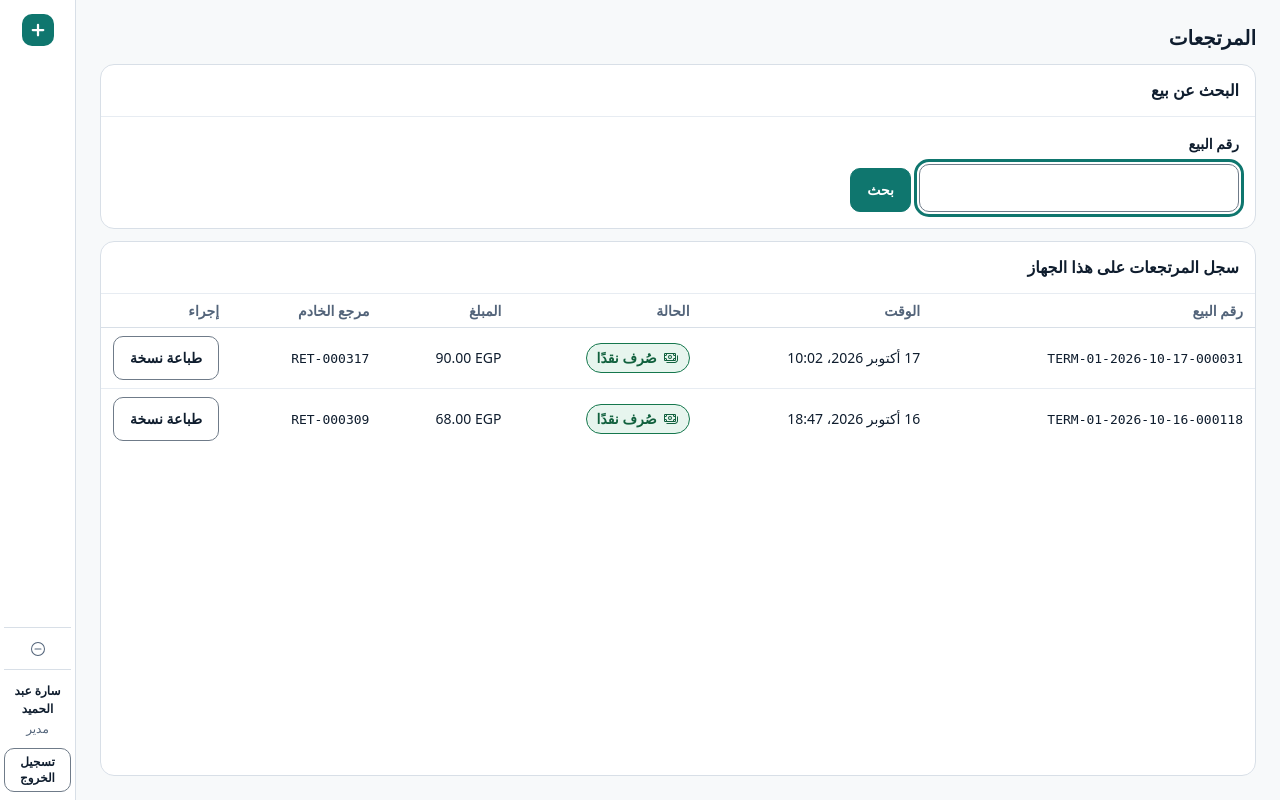
Test: ReturnsProof › PayoutInterrupted: the started payout is completed, never started afresh
Type "TERM-01-2026-10-15-000042" into the field labelled "رقم البيع" at (1079,188), box [919,164,1239,212]
Then press Enter
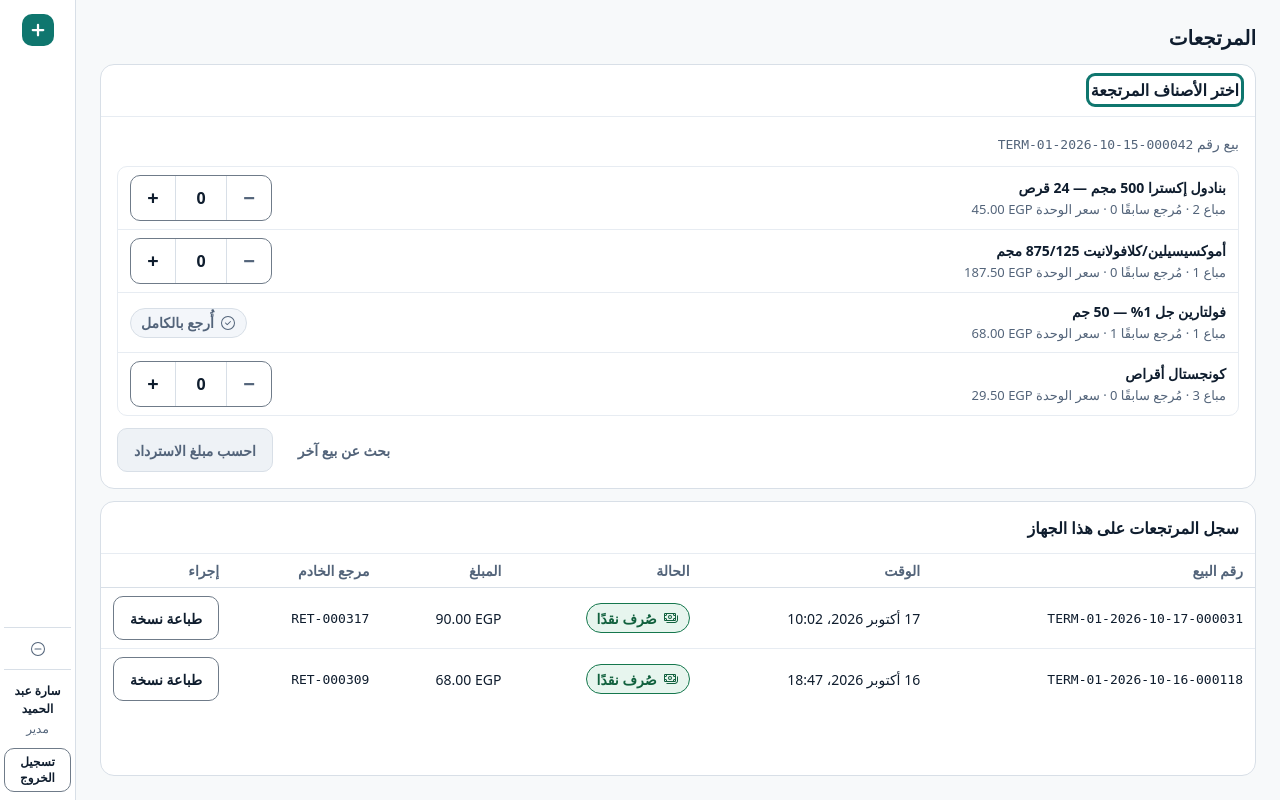
Click the button named "زيادة بنادول" at (153,198), box [131,176,175,220]
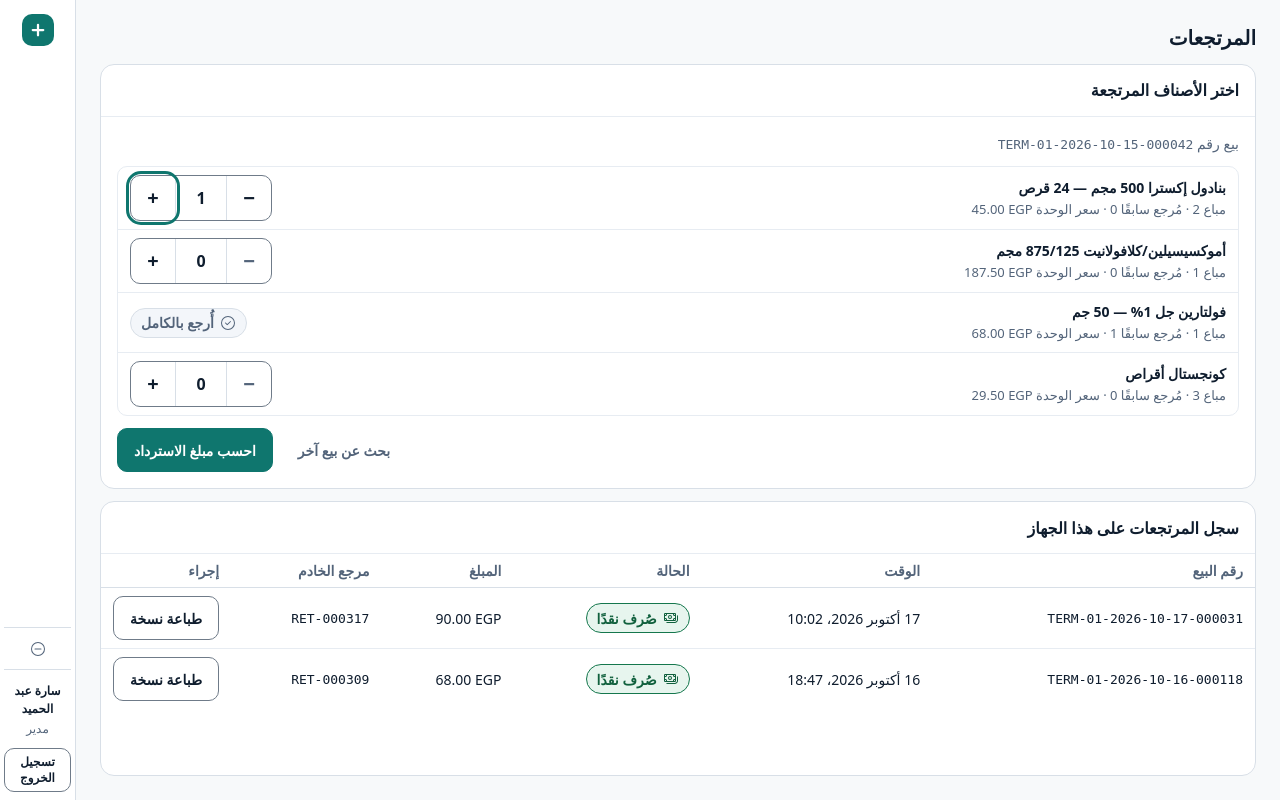
Click the button "احسب مبلغ الاسترداد" at (195,450), box [117,428,273,472]
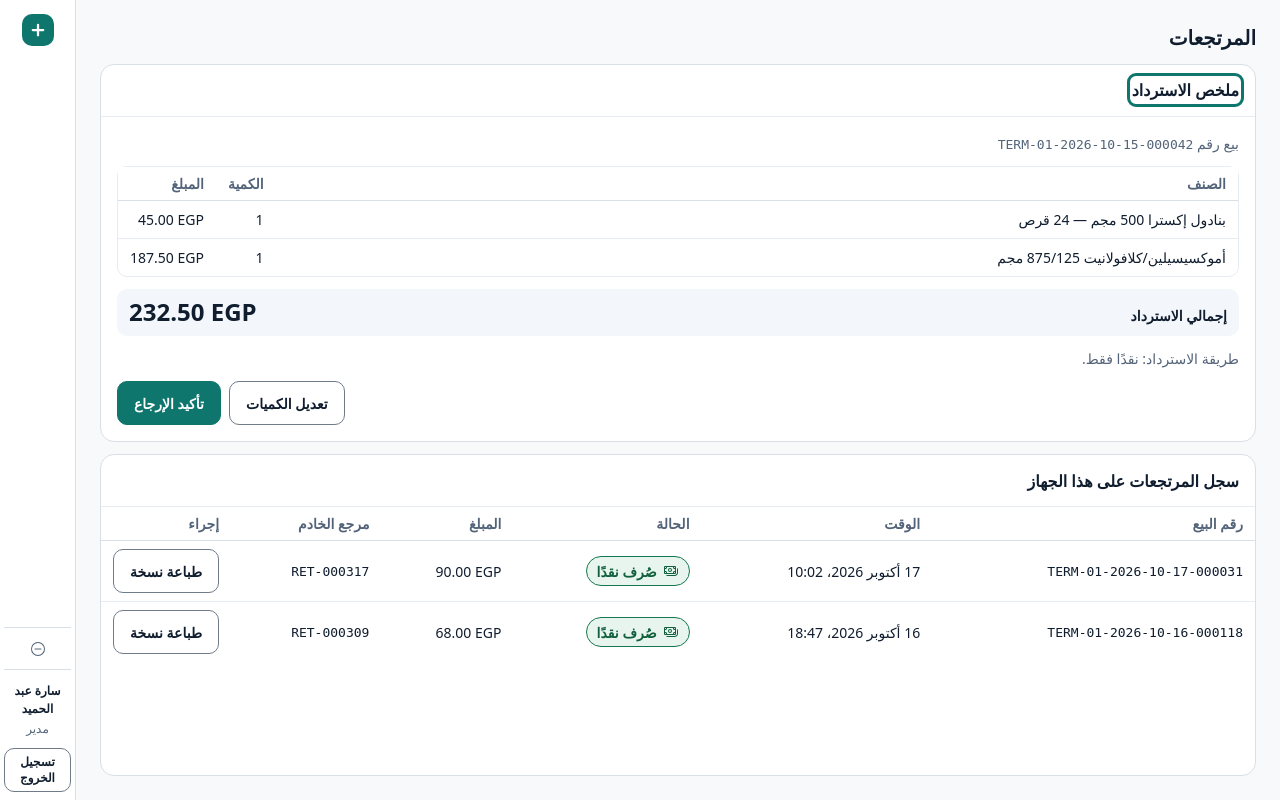
Click the button "تأكيد الإرجاع" at (169,403), box [117,381,221,425]
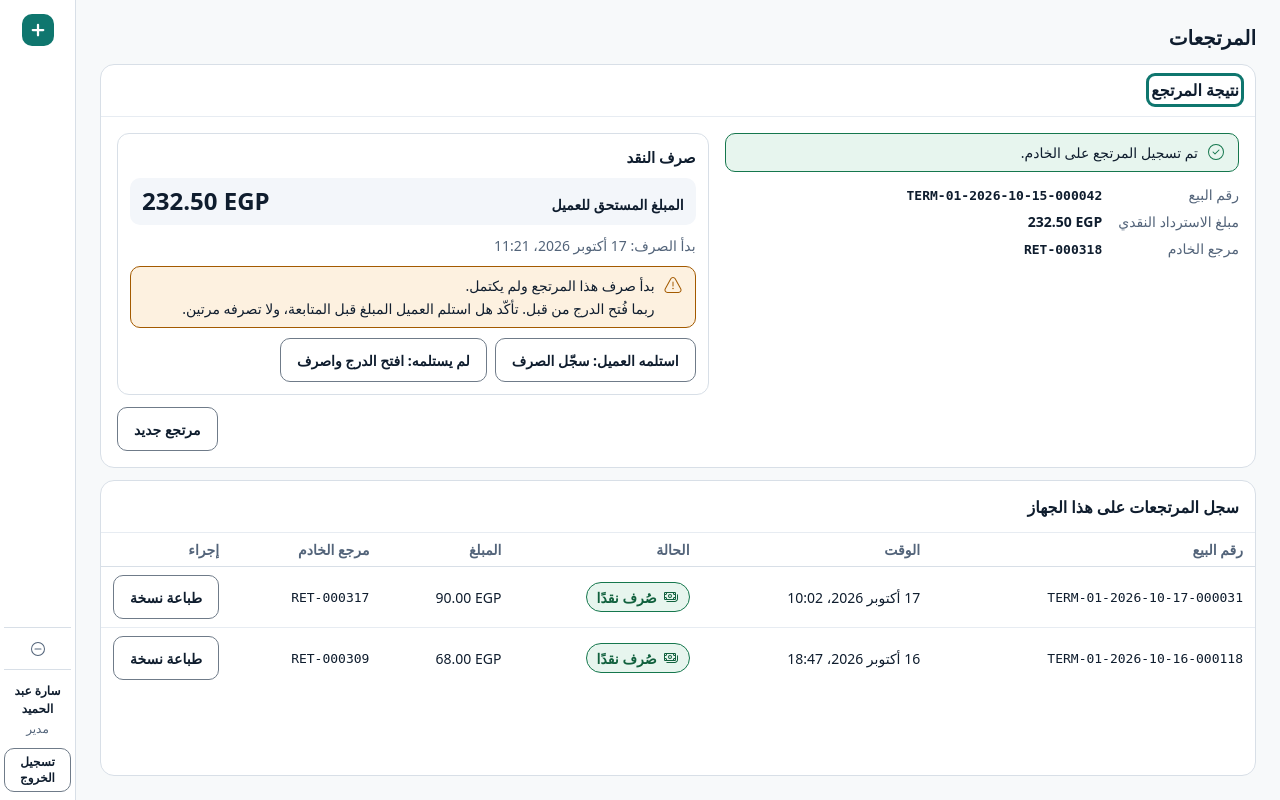
Now the text "بدأ صرف هذا المرتجع ولم يكتمل." is shown, box [466,276,655,295]
